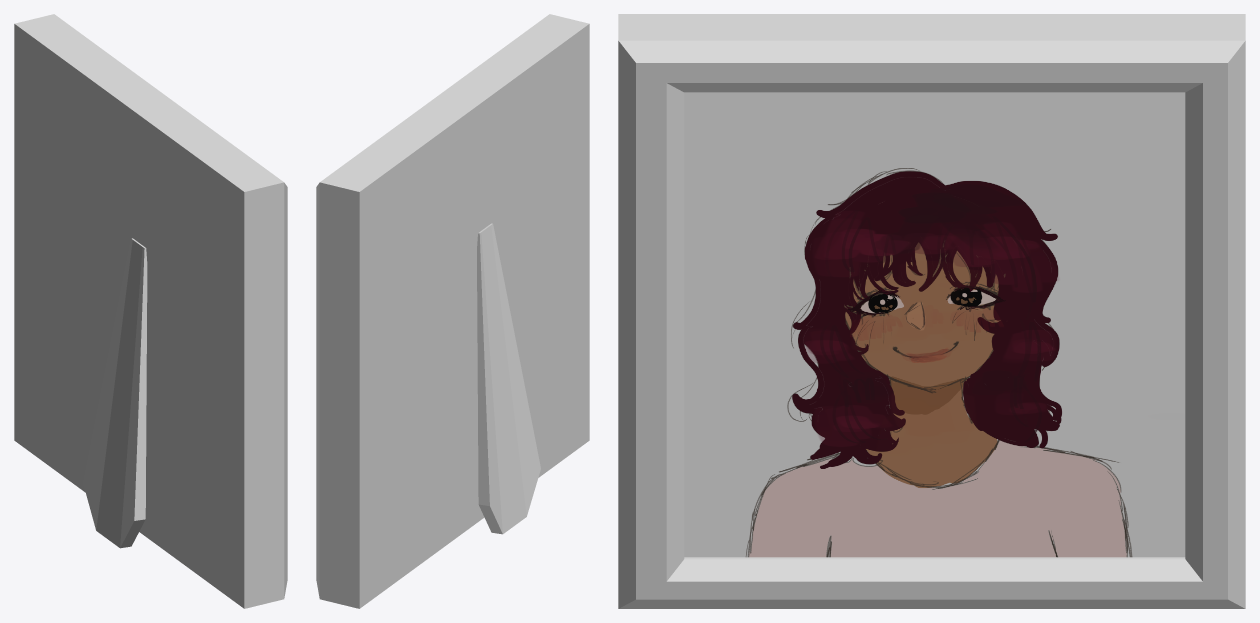
File: Photoframe_death.fbx
3 renders of one model, left to right at view 1: azimuth 30°, elevation 25°; view 2: azimuth 150°, elevation 25°; view 3: azimuth 270°, elevation 25°, orthographic. The views are drawn at different scales.
Visible parts, largest first — view 1: Cube; view 2: Cube; view 3: Cube.002, Cube.
Part boxes in pixels (box(x1,y1,x2,y2)): Cube: box(14, 14, 287, 608); Cube: box(316, 14, 589, 608); Cube.002: box(684, 92, 1185, 557); Cube: box(618, 14, 1245, 608).
Bounding box in the file's own units: 40.36 × 201 × 200.
